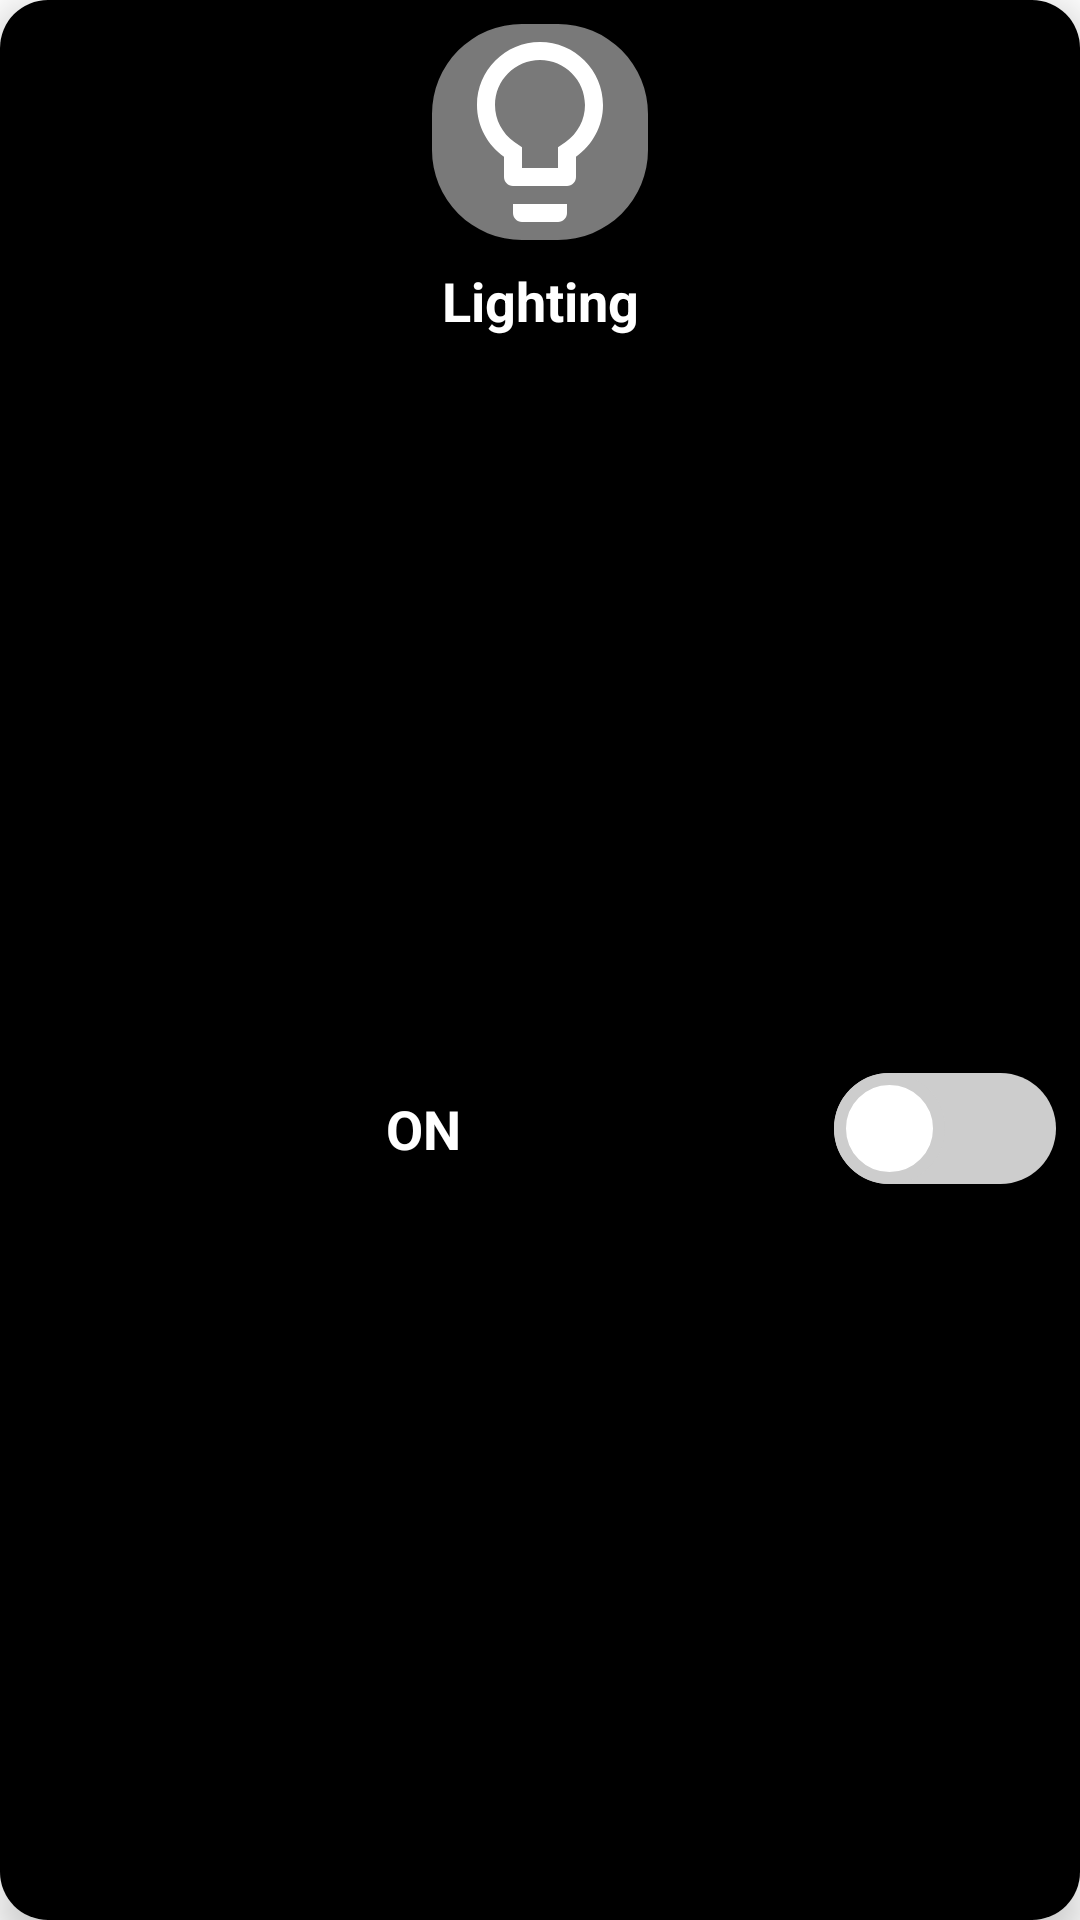

Named icons in this screenshot (1080x1920) and their centers, (x=x, y=y):
lightbulb: (x=540, y=132)
